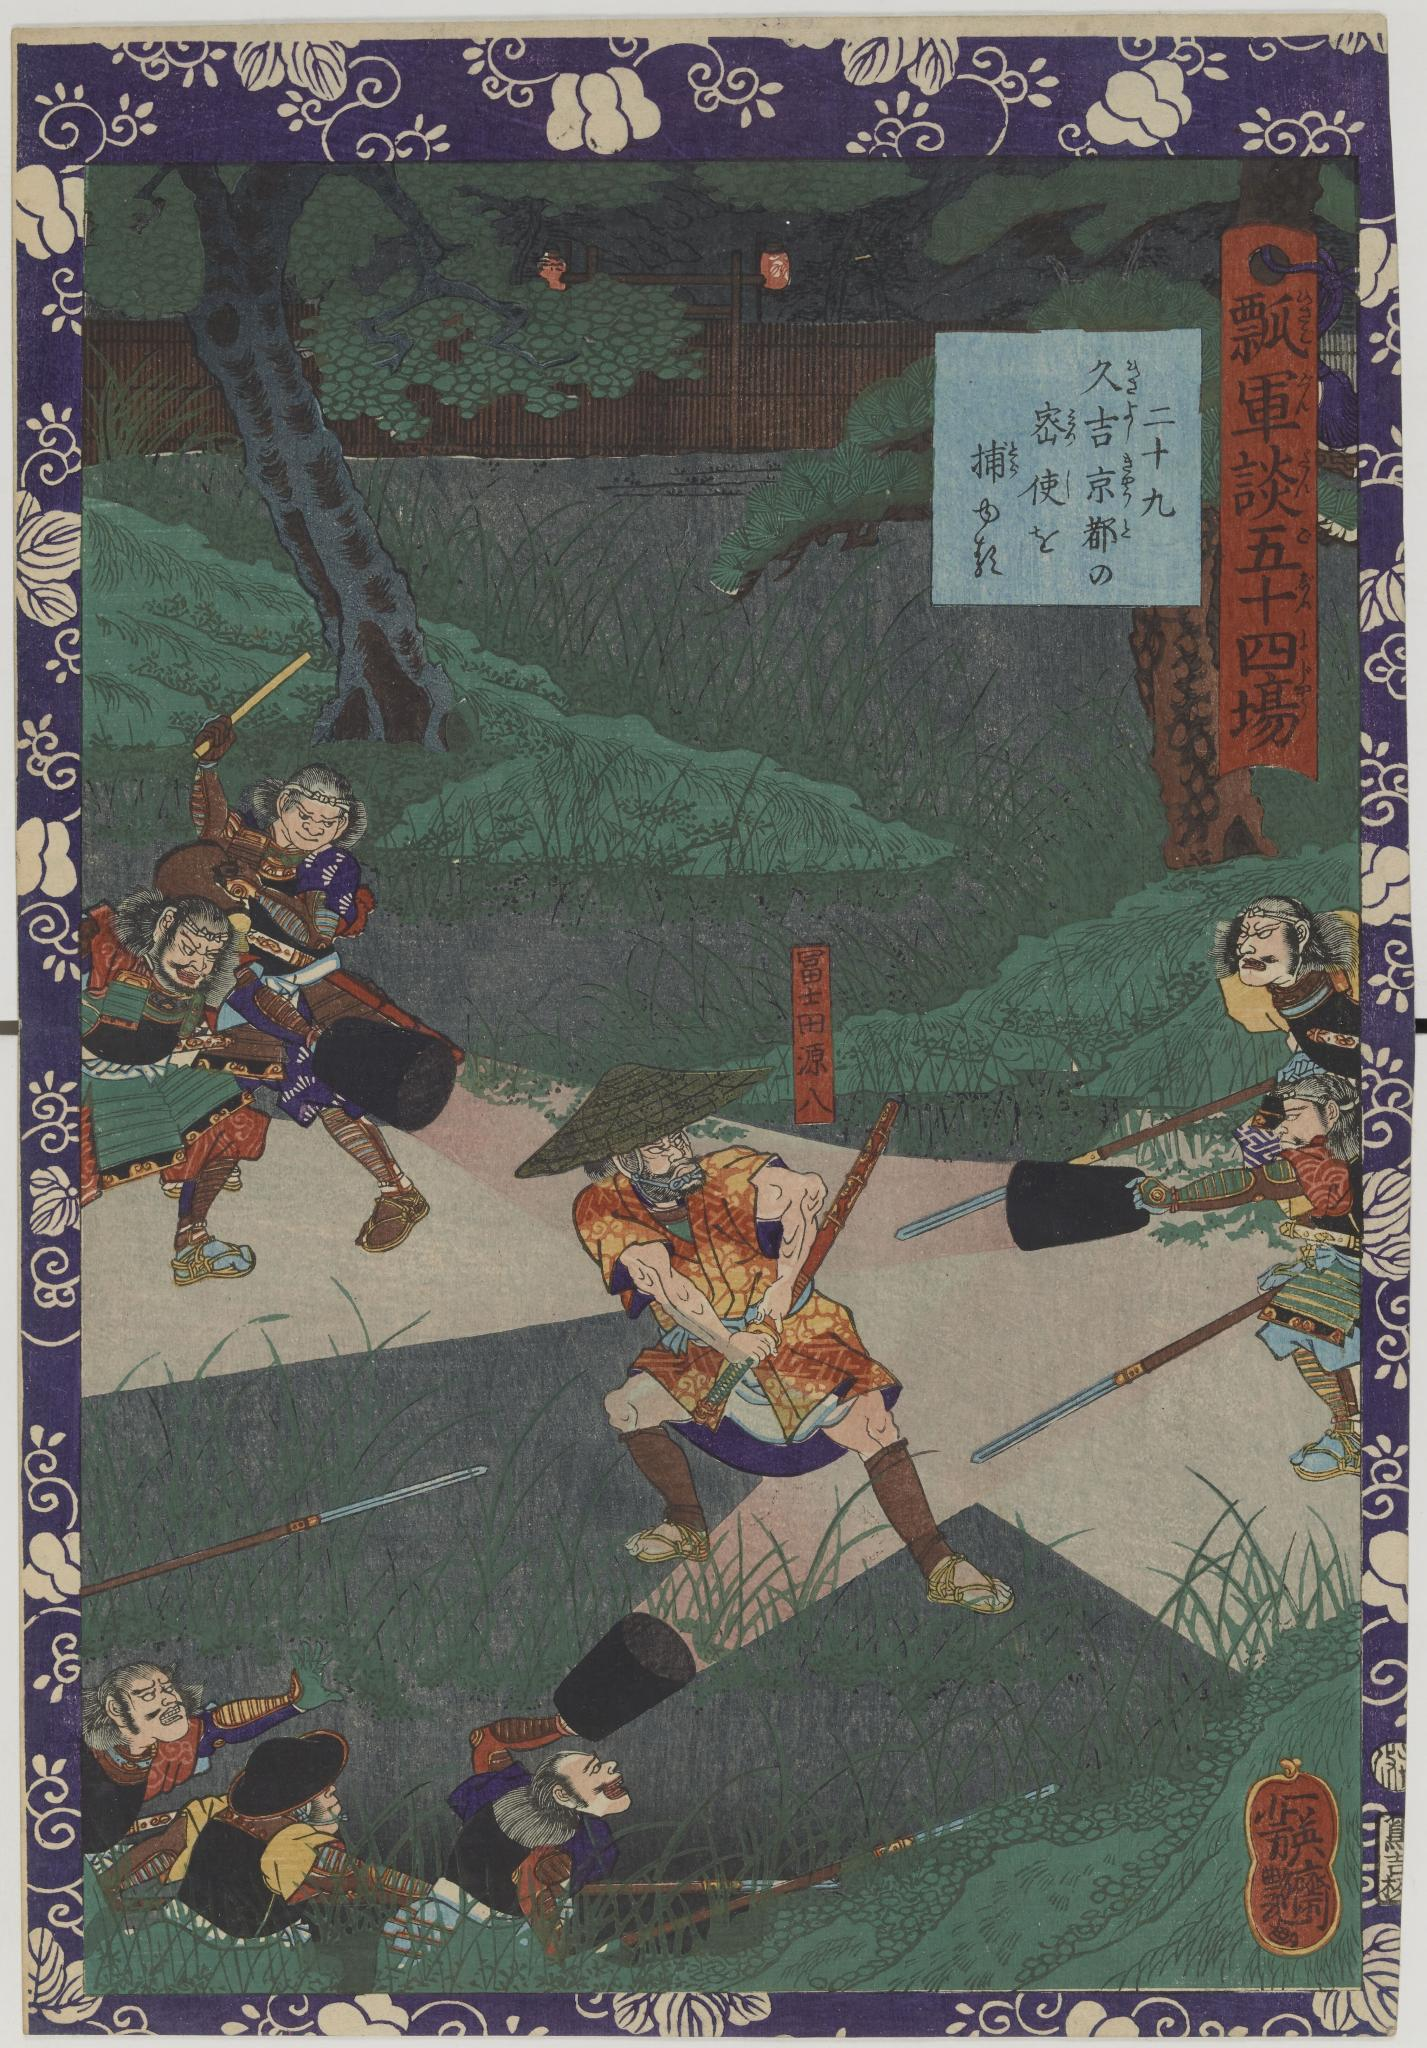MainZone-Character: (1226, 665, 1313, 756), (1226, 367, 1317, 447), (1228, 444, 1318, 521), (1229, 289, 1317, 367), (1229, 570, 1317, 626), (1231, 524, 1318, 573), (1228, 622, 1317, 669), (1082, 453, 1139, 507), (1082, 400, 1138, 450), (1078, 358, 1145, 397), (963, 437, 1021, 479), (1078, 512, 1136, 552), (1030, 402, 1075, 451), (1027, 468, 1074, 507)
MainZone-Ruby: (1295, 657, 1313, 725), (1295, 289, 1315, 345), (1295, 444, 1313, 496), (1295, 372, 1313, 419), (1122, 358, 1144, 395), (1296, 568, 1313, 613), (1119, 451, 1133, 506), (1005, 437, 1022, 481), (1064, 405, 1078, 448), (1122, 402, 1138, 440), (1295, 521, 1313, 548), (1063, 467, 1075, 503), (1119, 515, 1133, 540), (1296, 627, 1310, 649)
